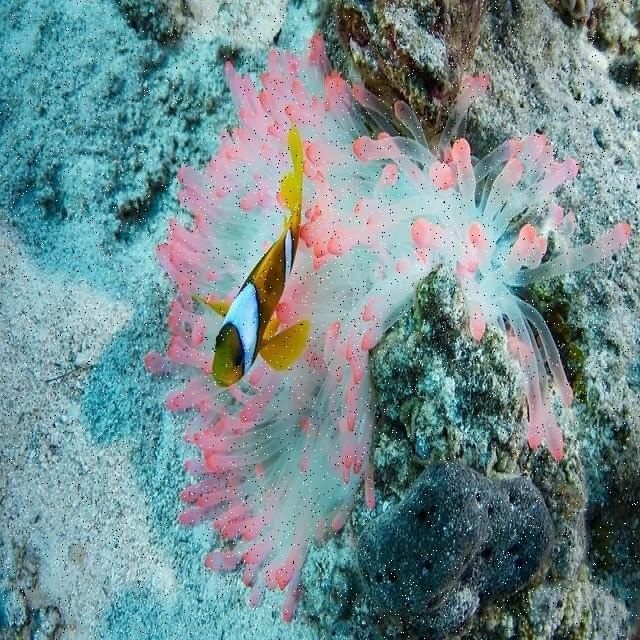fish: (192, 125, 308, 390)
reefs: (147, 32, 633, 620)
